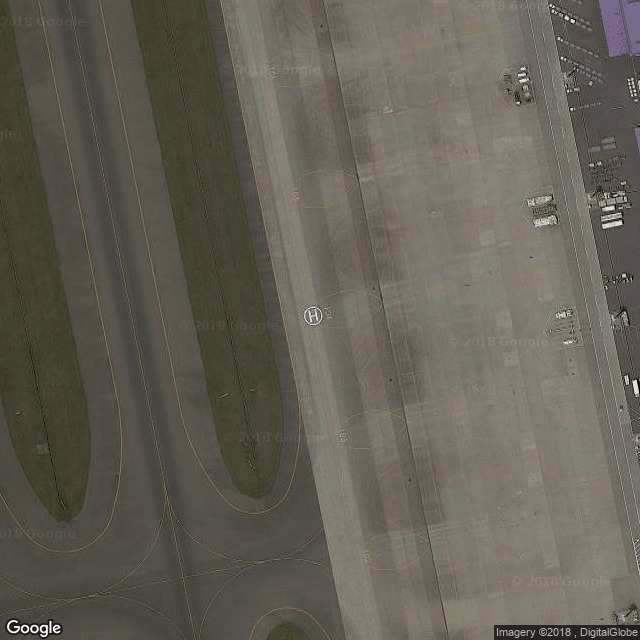heliport: (306, 308, 319, 323)
